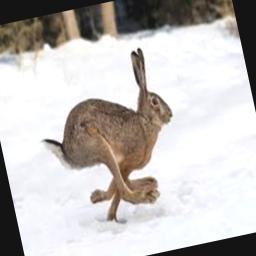rabbit: (41, 47, 172, 220)
